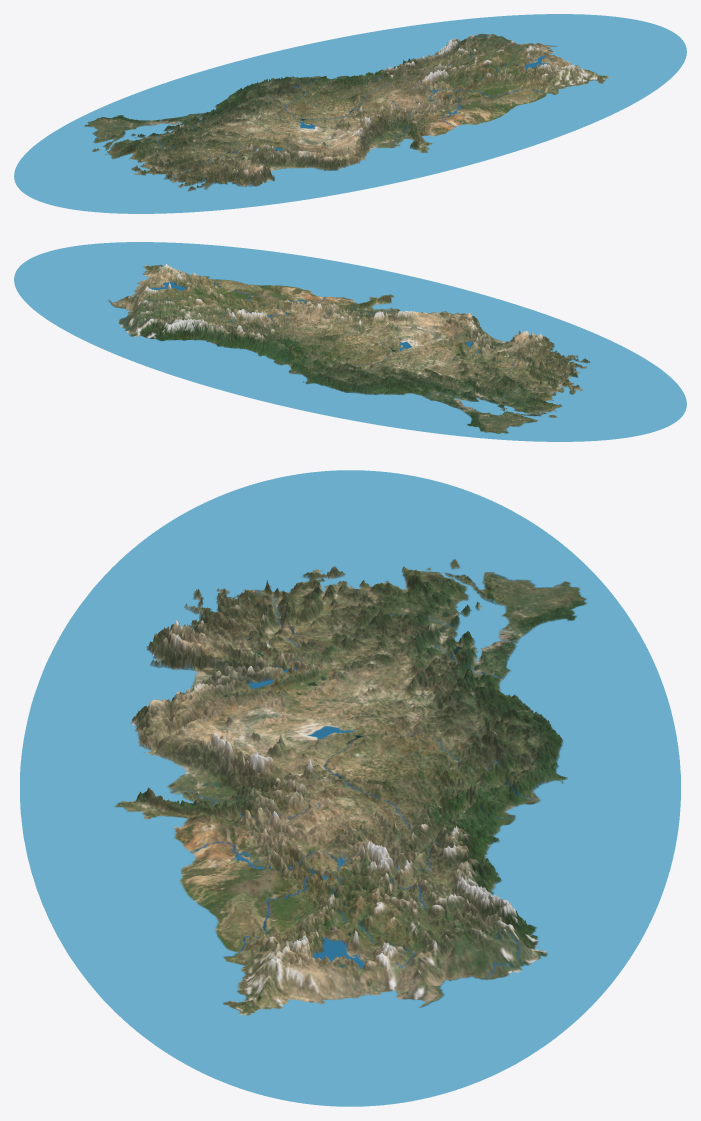
The model's file is TUR-previa-terrain.glb.
3 renders of one model, top to bottom at view 1: azimuth 30°, elevation 25°; view 2: azimuth 150°, elevation 25°; view 3: azimuth 270°, elevation 25°, orthographic. The views are drawn at different scales.
Parts seen in each view (by area): view 1: Turquia; view 2: Turquia; view 3: Turquia.
Part boxes in pixels (bbox=[...]): Turquia: bbox=[14, 14, 686, 213]; Turquia: bbox=[14, 242, 686, 441]; Turquia: bbox=[20, 470, 680, 1106].
Size of the model in its own units: 2.47 by 0.0607 by 1.08.
1 material, 1 textured.
